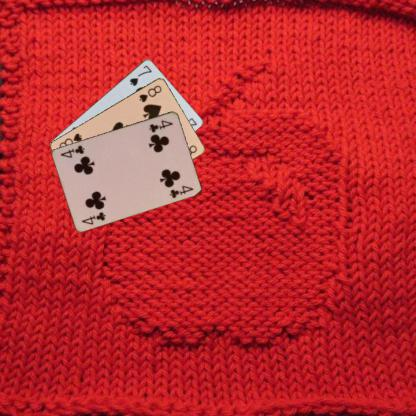4c: (146, 118, 175, 134), (79, 209, 107, 225)
7s: (127, 62, 153, 87)
8s: (136, 82, 163, 104)
